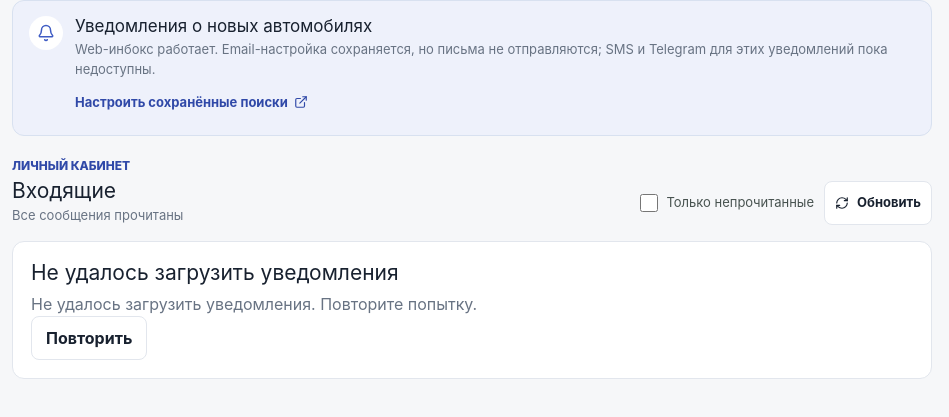
Test: NotificationsInbox › keeps a failed initial load distinct from an empty inbox and offers retry
Click the button "Повторить" at point(89, 338), box x1=31 y1=316 x2=147 y2=360
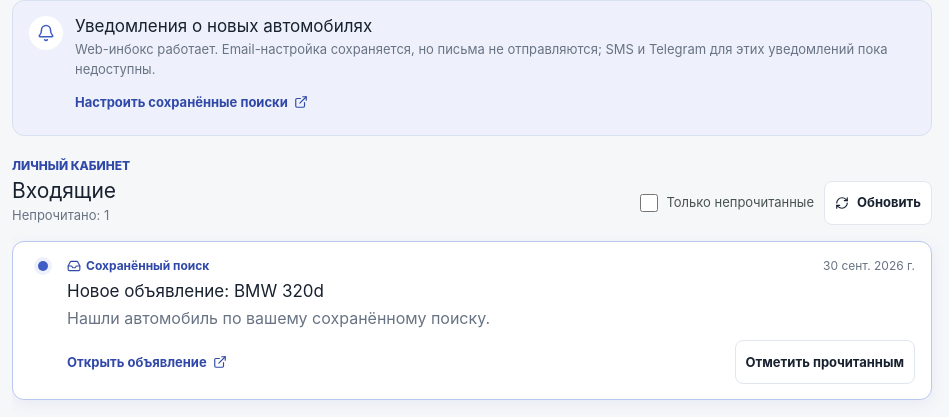
Check: the text "Новое объявление: BMW 320d" is shown, box x1=67 y1=281 x2=324 y2=301
